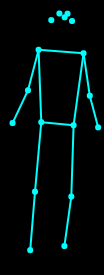mountain: (8, 8, 102, 257)
